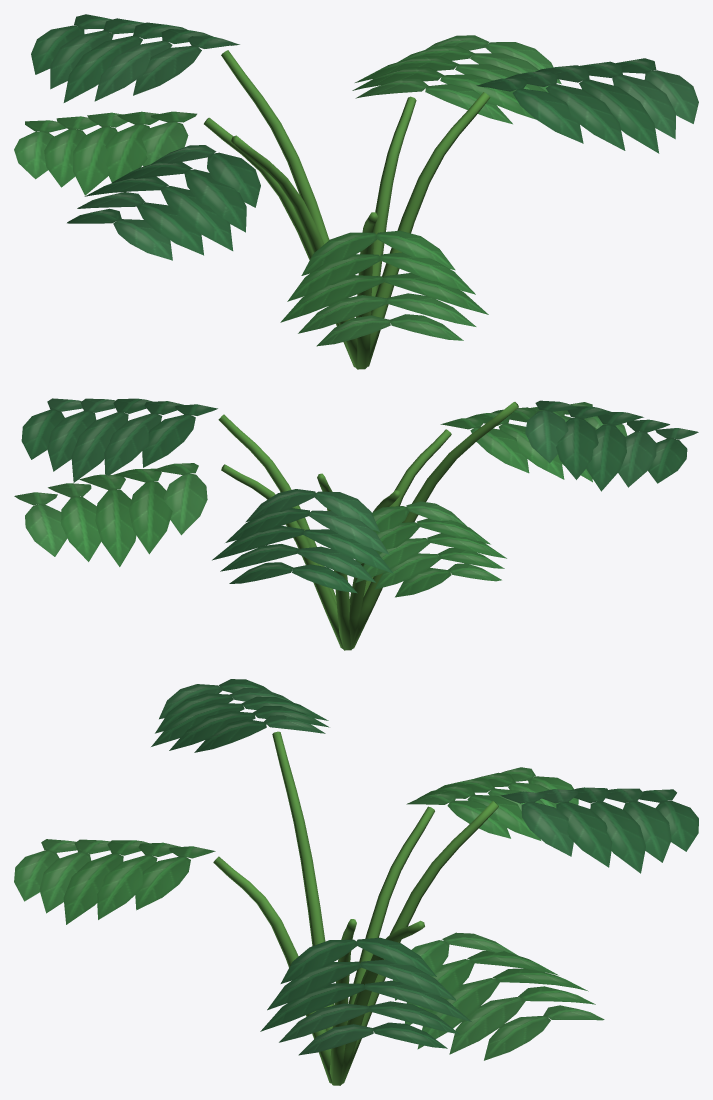
The model's file is monstera_a.glb.
3 views of the same model, one above another, from view 1: azimuth 30°, elevation 25°; view 2: azimuth 150°, elevation 25°; view 3: azimuth 270°, elevation 25° (orthographic). The views are drawn at different scales.
Parts seen in each view (by area): view 1: Monstera_leaf; view 2: Monstera_leaf; view 3: Monstera_leaf.
Part boxes in pixels (x1,y1,x2,y2): Monstera_leaf: [14, 14, 698, 369]; Monstera_leaf: [14, 398, 698, 650]; Monstera_leaf: [14, 679, 698, 1085].
Size of the model in its own units: 1.7 by 0.714 by 1.59.
Materials: 1 (1 with a texture image).
